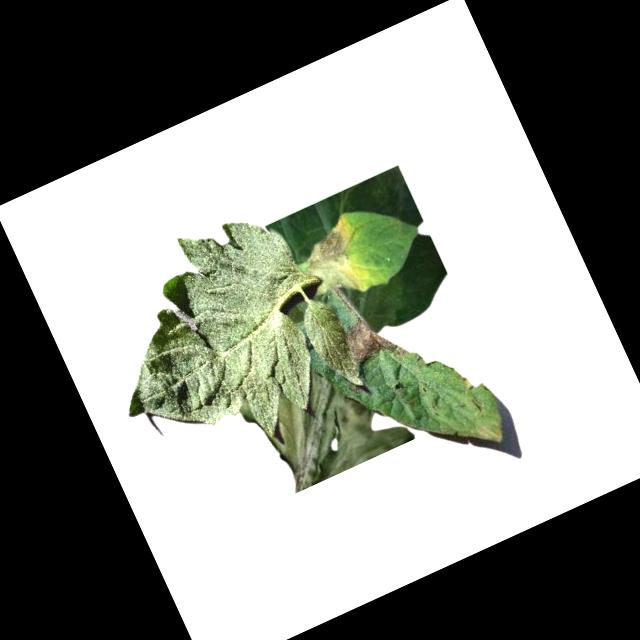Late_blight: (237, 344, 416, 500), (294, 213, 377, 305), (334, 308, 398, 369), (471, 417, 506, 449)
healthy: (70, 193, 369, 485)
